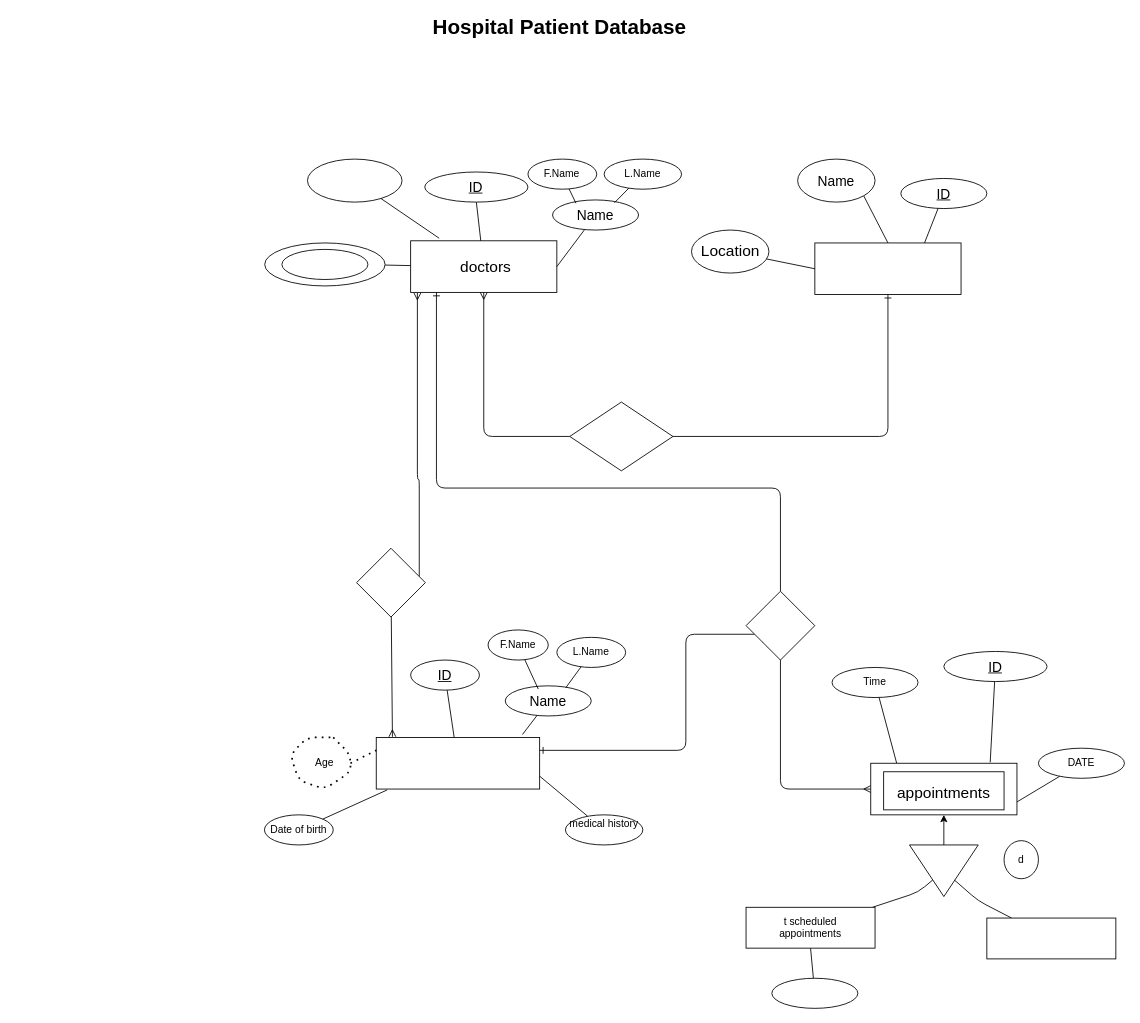
Image size: 1140x1023. Some labels were removed from this diagram. The centre of each missing label's shape, as x and y in pixels:
contact number: pixel 324 264
departments: pixel 887 268
emergency cases: pixel 1051 938
HAS: pixel 390 582
patients: pixel 457 763
Record: pixel 780 625
reference number: pixel 814 992
specialty: pixel 354 180
Works: pixel 621 436
